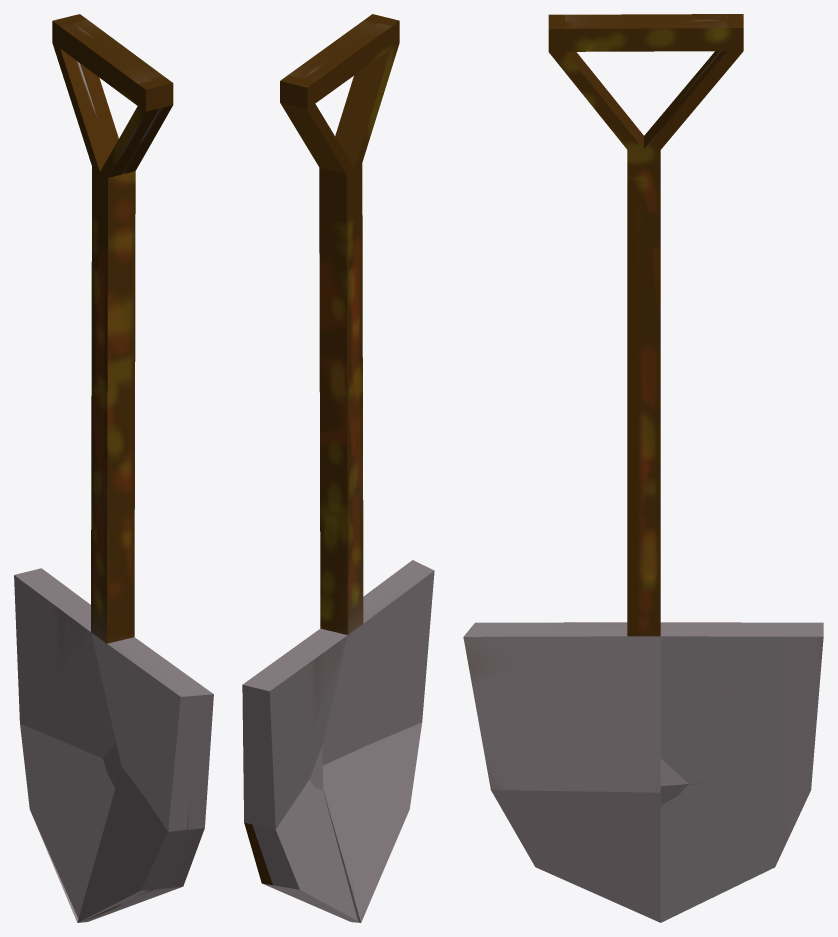
The model's file is shovel.fbx.
The picture shows the model from 3 angles, left to right: view 1: azimuth 30°, elevation 25°; view 2: azimuth 150°, elevation 25°; view 3: azimuth 270°, elevation 25°; orthographic projection. The views are drawn at different scales.
Parts seen in each view (by area): view 1: shovel; view 2: shovel; view 3: shovel.
Boxes of the visible parts, <box> form: shovel: <box>14,14,213,922</box>; shovel: <box>242,14,434,922</box>; shovel: <box>463,14,823,922</box>.
Bounding box in the file's own units: 5.82 × 100 × 35.92.
1 material, 1 textured.
